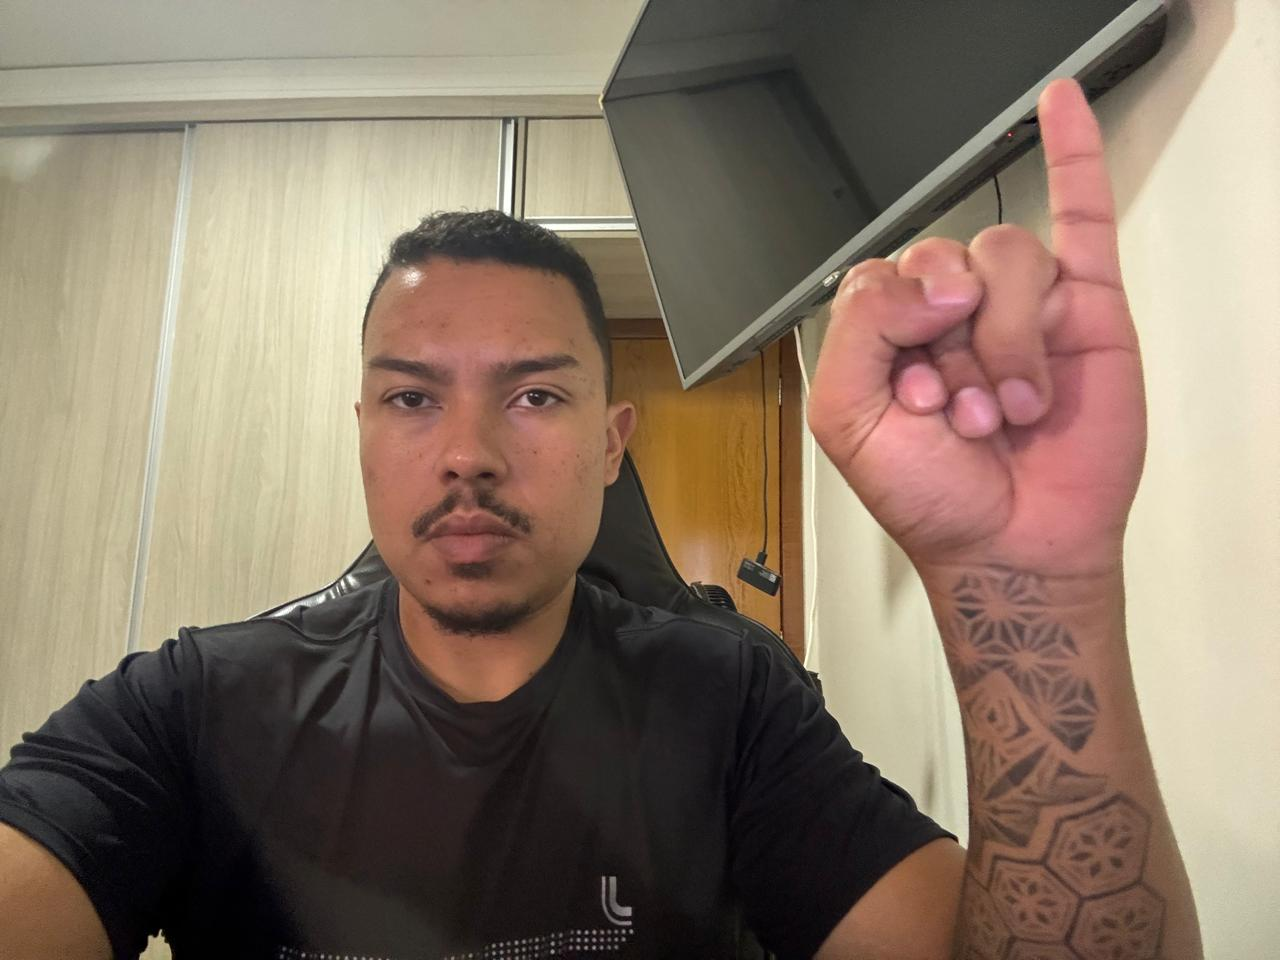i: (792, 71, 1156, 602)
